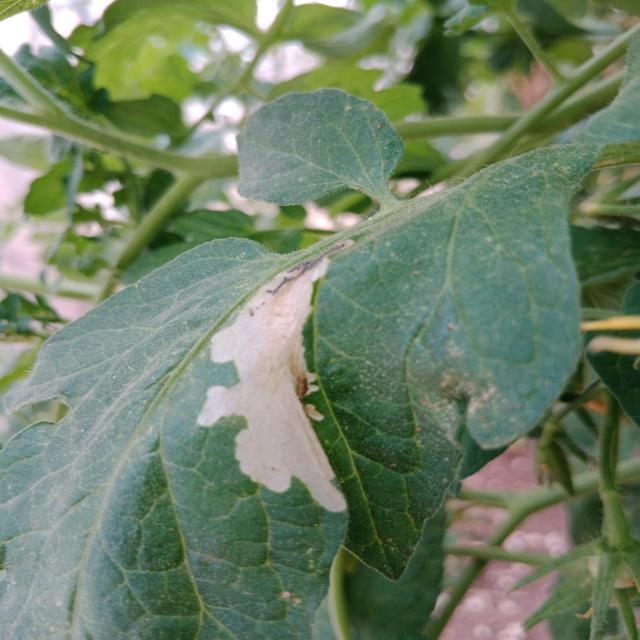Tuta absoluta: (193, 233, 358, 512)
